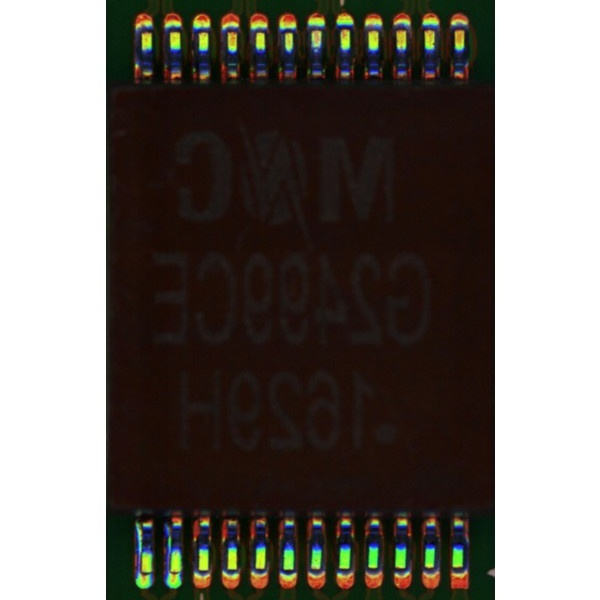Bad_podu: (141, 568, 151, 579), (169, 567, 179, 578)
Bad_qiaojiao: (165, 522, 172, 569), (136, 522, 142, 572)
